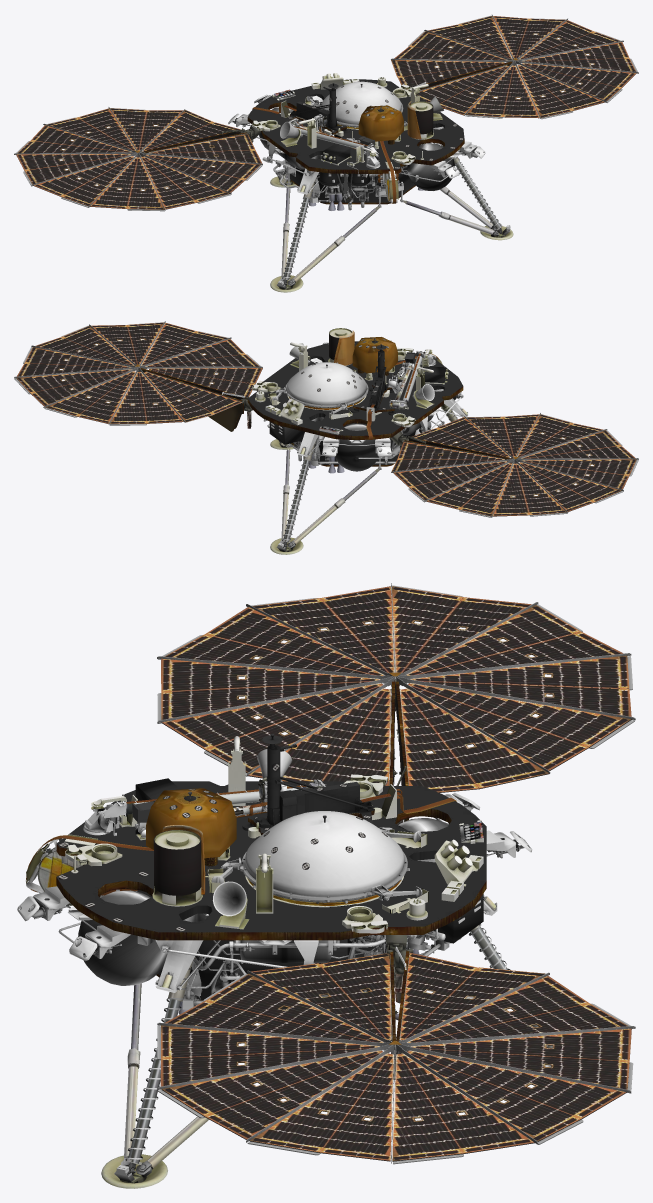
File: insight.glb
3 views of the same model, one above another, from view 1: azimuth 30°, elevation 25°; view 2: azimuth 150°, elevation 25°; view 3: azimuth 270°, elevation 25° (orthographic). The views are drawn at different scales.
Visible parts, largest first — view 1: deck, SEIS, Cube.079, arm_01, cable_02; view 2: deck, SEIS, Cube.079, arm_01; view 3: deck, SEIS, Cube.079, arm_01, cable_02.
Boxes of the visible parts, left/top/right/bottom form: deck: left=14, top=14, right=638, bottom=292; SEIS: left=290, top=81, right=407, bottom=202; Cube.079: left=391, top=59, right=504, bottom=89; arm_01: left=288, top=114, right=379, bottom=167; cable_02: left=284, top=105, right=396, bottom=203; deck: left=14, top=321, right=638, bottom=554; SEIS: left=272, top=337, right=423, bottom=414; Cube.079: left=144, top=372, right=241, bottom=422; arm_01: left=388, top=349, right=435, bottom=407; deck: left=17, top=583, right=635, bottom=1188; SEIS: left=124, top=779, right=422, bottom=903; Cube.079: left=399, top=952, right=545, bottom=1040; arm_01: left=84, top=779, right=326, bottom=837; cable_02: left=26, top=785, right=401, bottom=906.
Size of the model in its own units: 6.14 by 1.58 by 2.77.
Materials: 11 (11 with a texture image).
